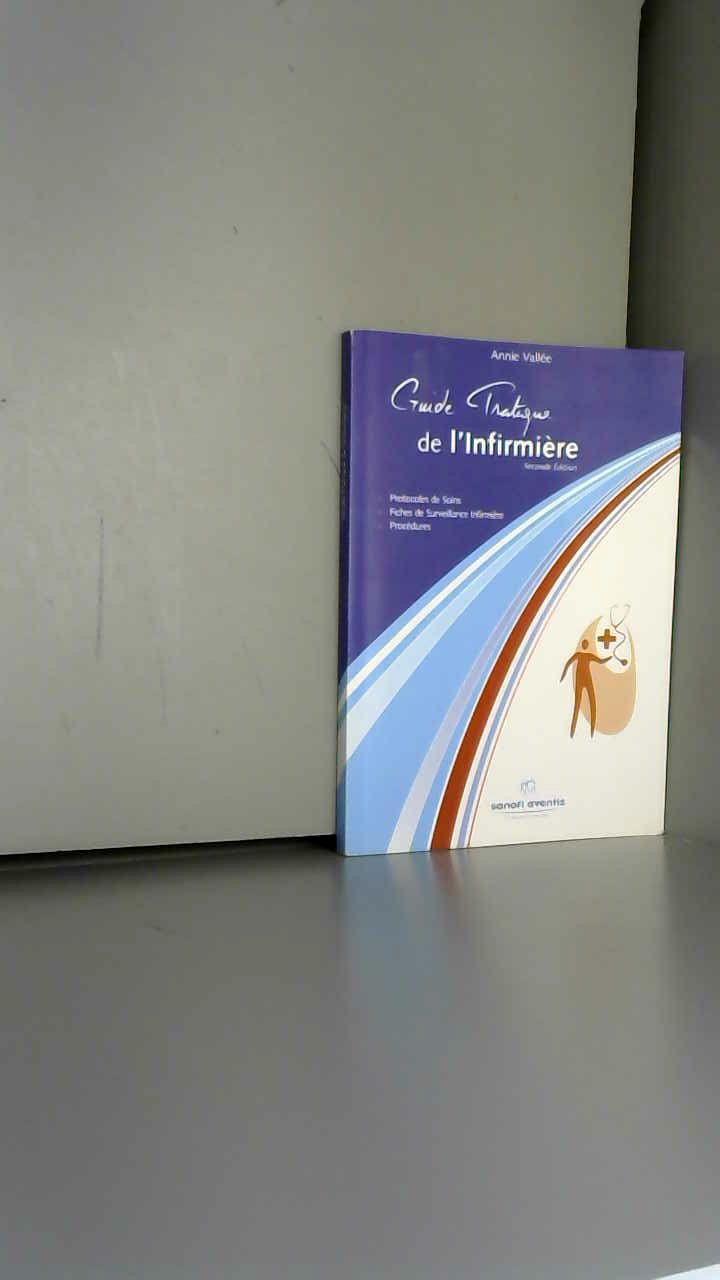book: (310, 300, 720, 895)
